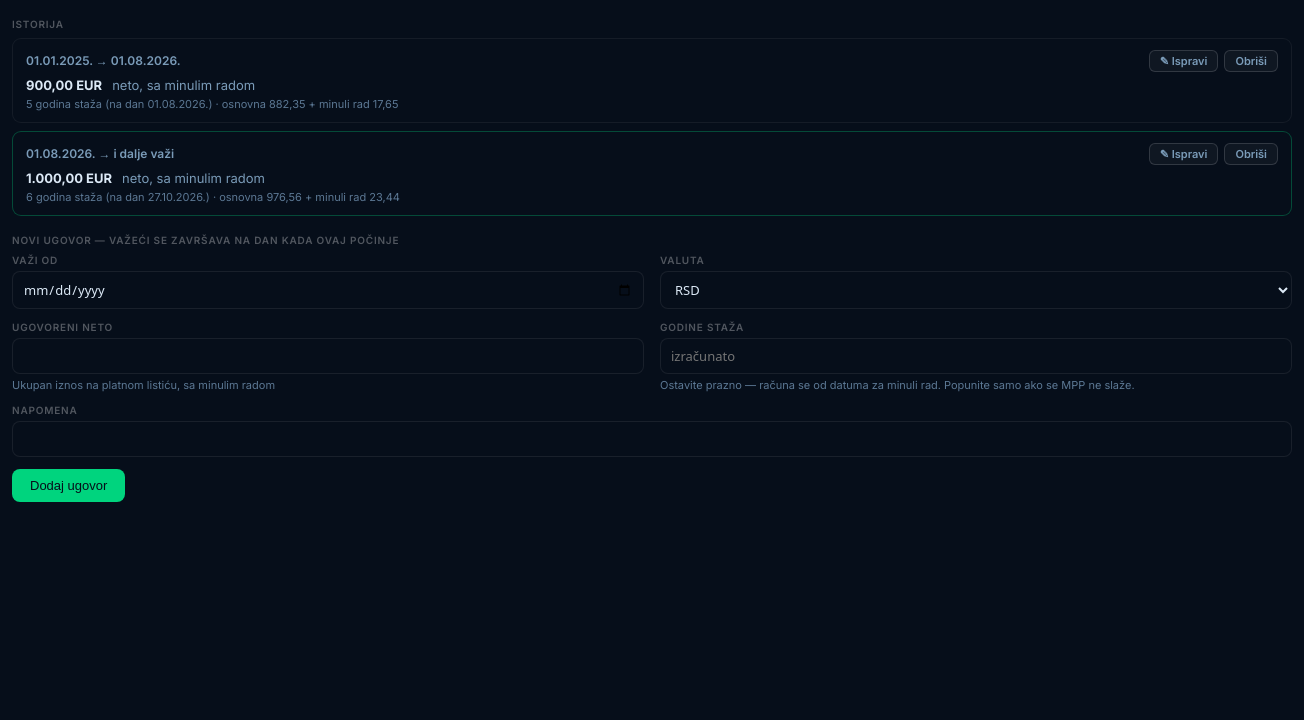
Test: correcting a contract › warns, while typing, that ending the current contract drops the person from payroll
Click the button titled "Ispravi ovaj ugovor" in the row of "i dalje važi". click: (1184, 154)
box: [1149,143,1218,165]
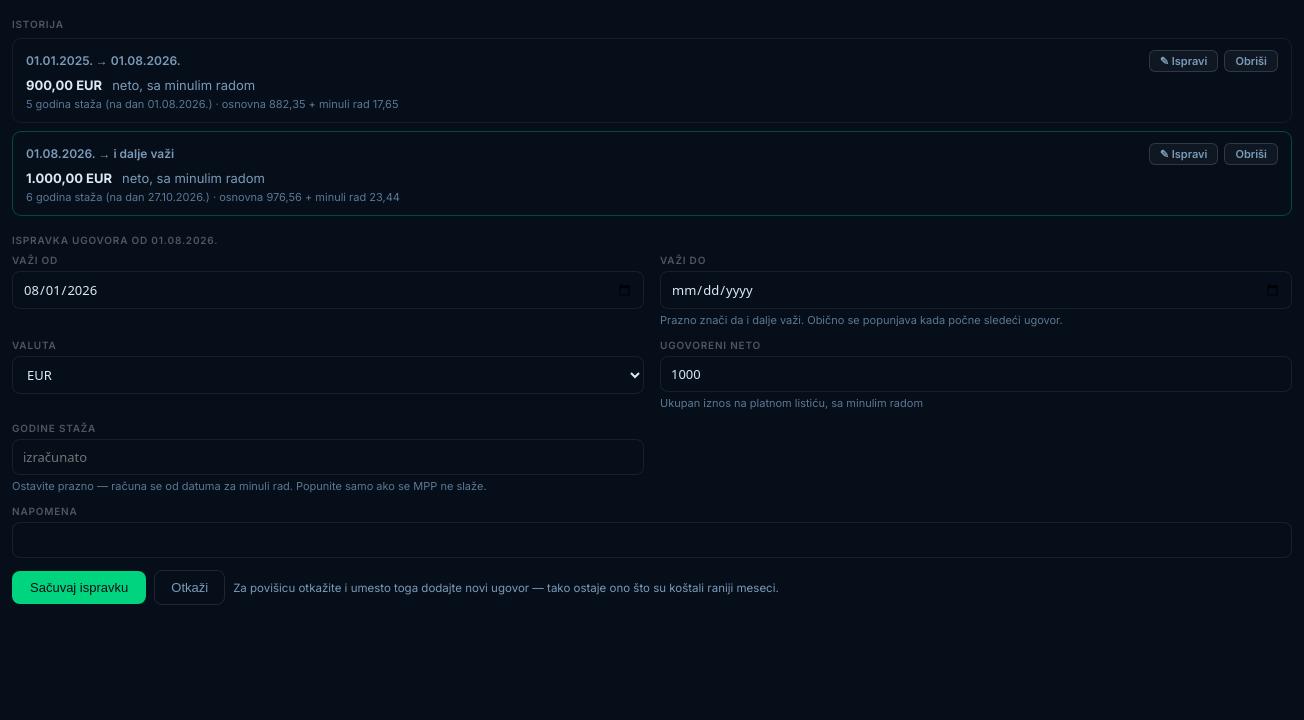
Type "2026-09-01" into the date field labelled "Važi do". click: (976, 290)
box: [660,271,1292,309]
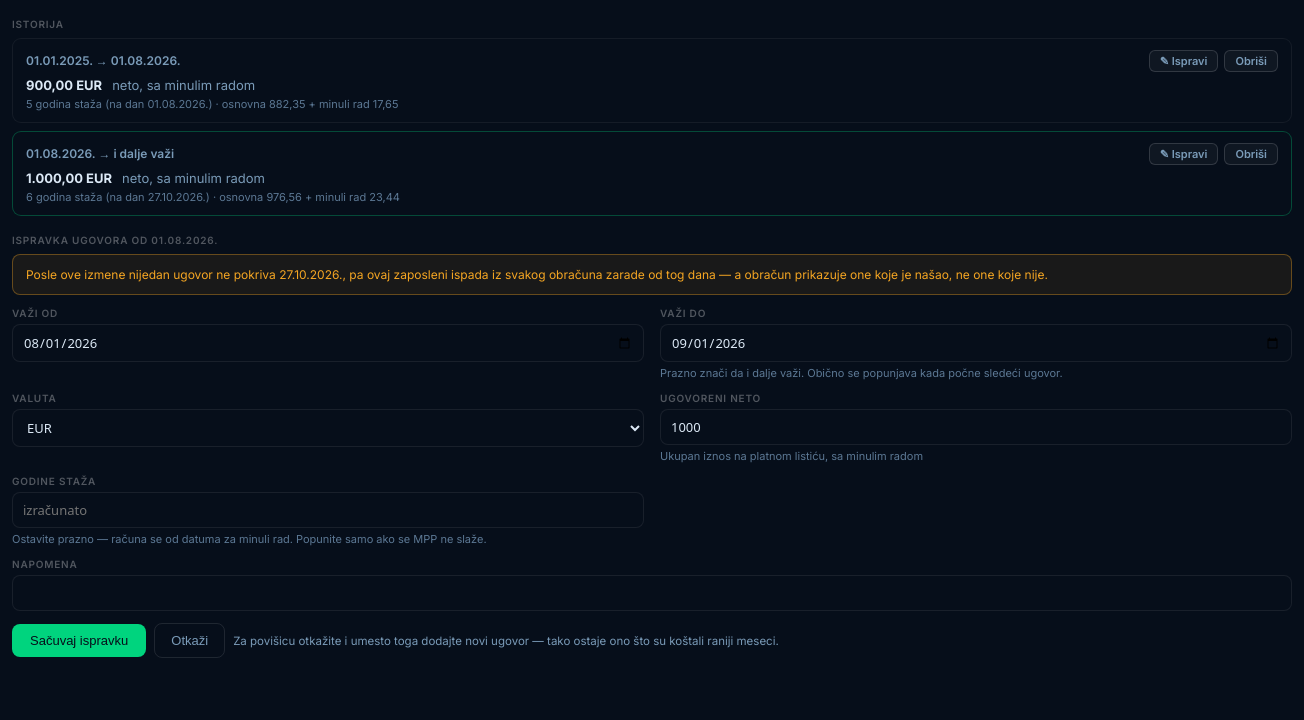
Now the text "ispada iz" is shown, box [26,267,1048,282]
